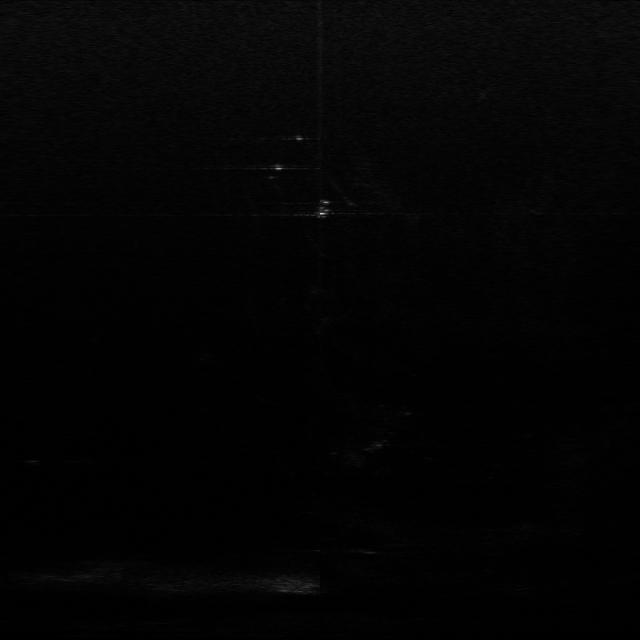rov: (311, 197, 333, 220)
